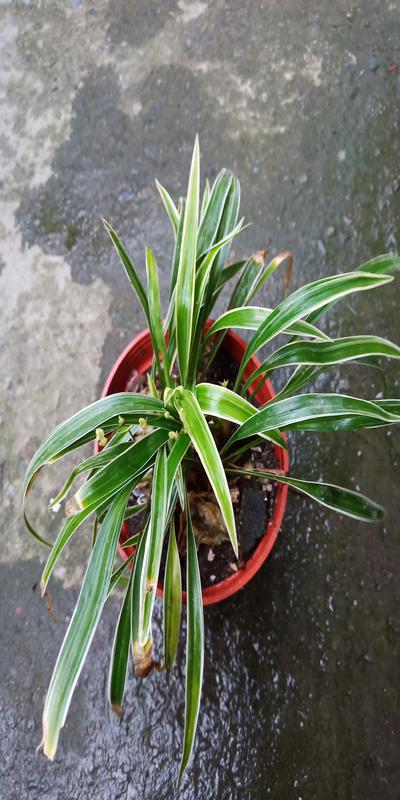Yellow and green leaf: (22, 231, 383, 671)
